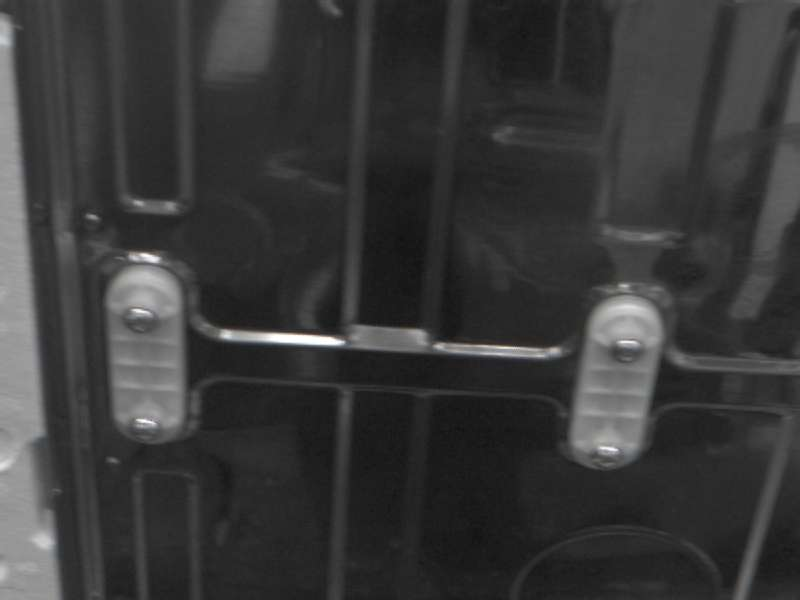screw: (122, 307, 159, 333), (128, 417, 161, 443), (590, 445, 624, 470), (610, 339, 644, 363)
